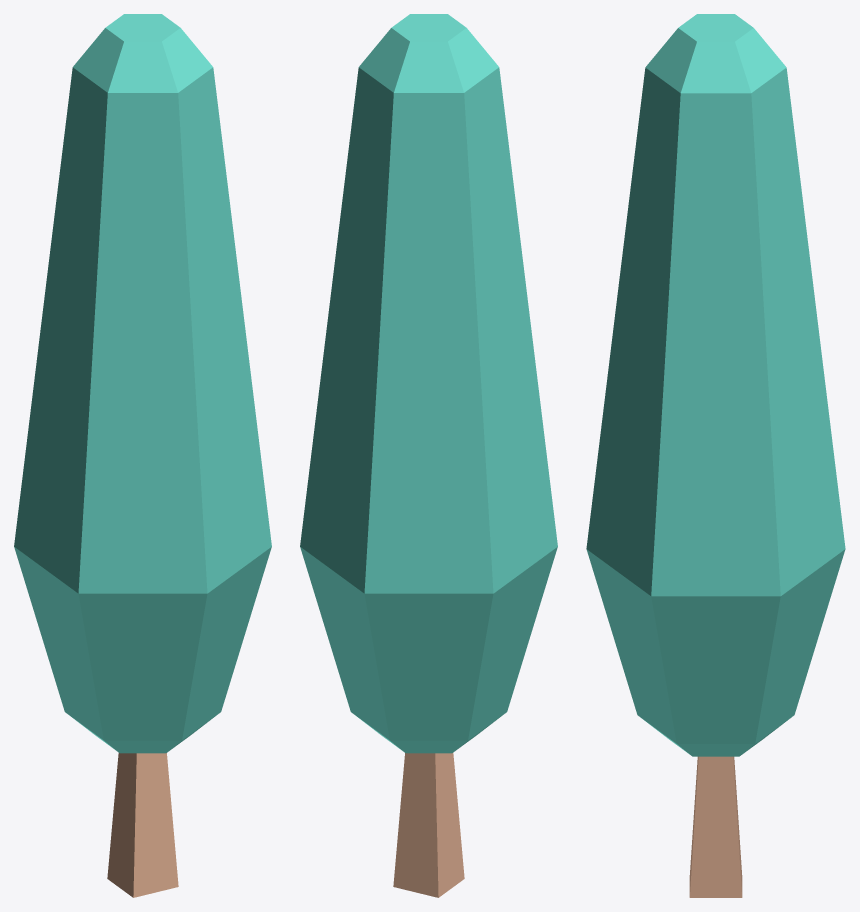
3 views of the same model, side by side, from view 1: azimuth 30°, elevation 25°; view 2: azimuth 150°, elevation 25°; view 3: azimuth 270°, elevation 25° (orthographic).
Parts seen in each view (by area): view 1: tree_tall; view 2: tree_tall; view 3: tree_tall.
Part boxes in pixels (x1,y1,x2,y2): tree_tall: (14, 14, 271, 897); tree_tall: (300, 14, 557, 897); tree_tall: (586, 14, 845, 897).
Size of what is drawn, in the model's own units: 0.3996 by 1.69 by 0.4614.
